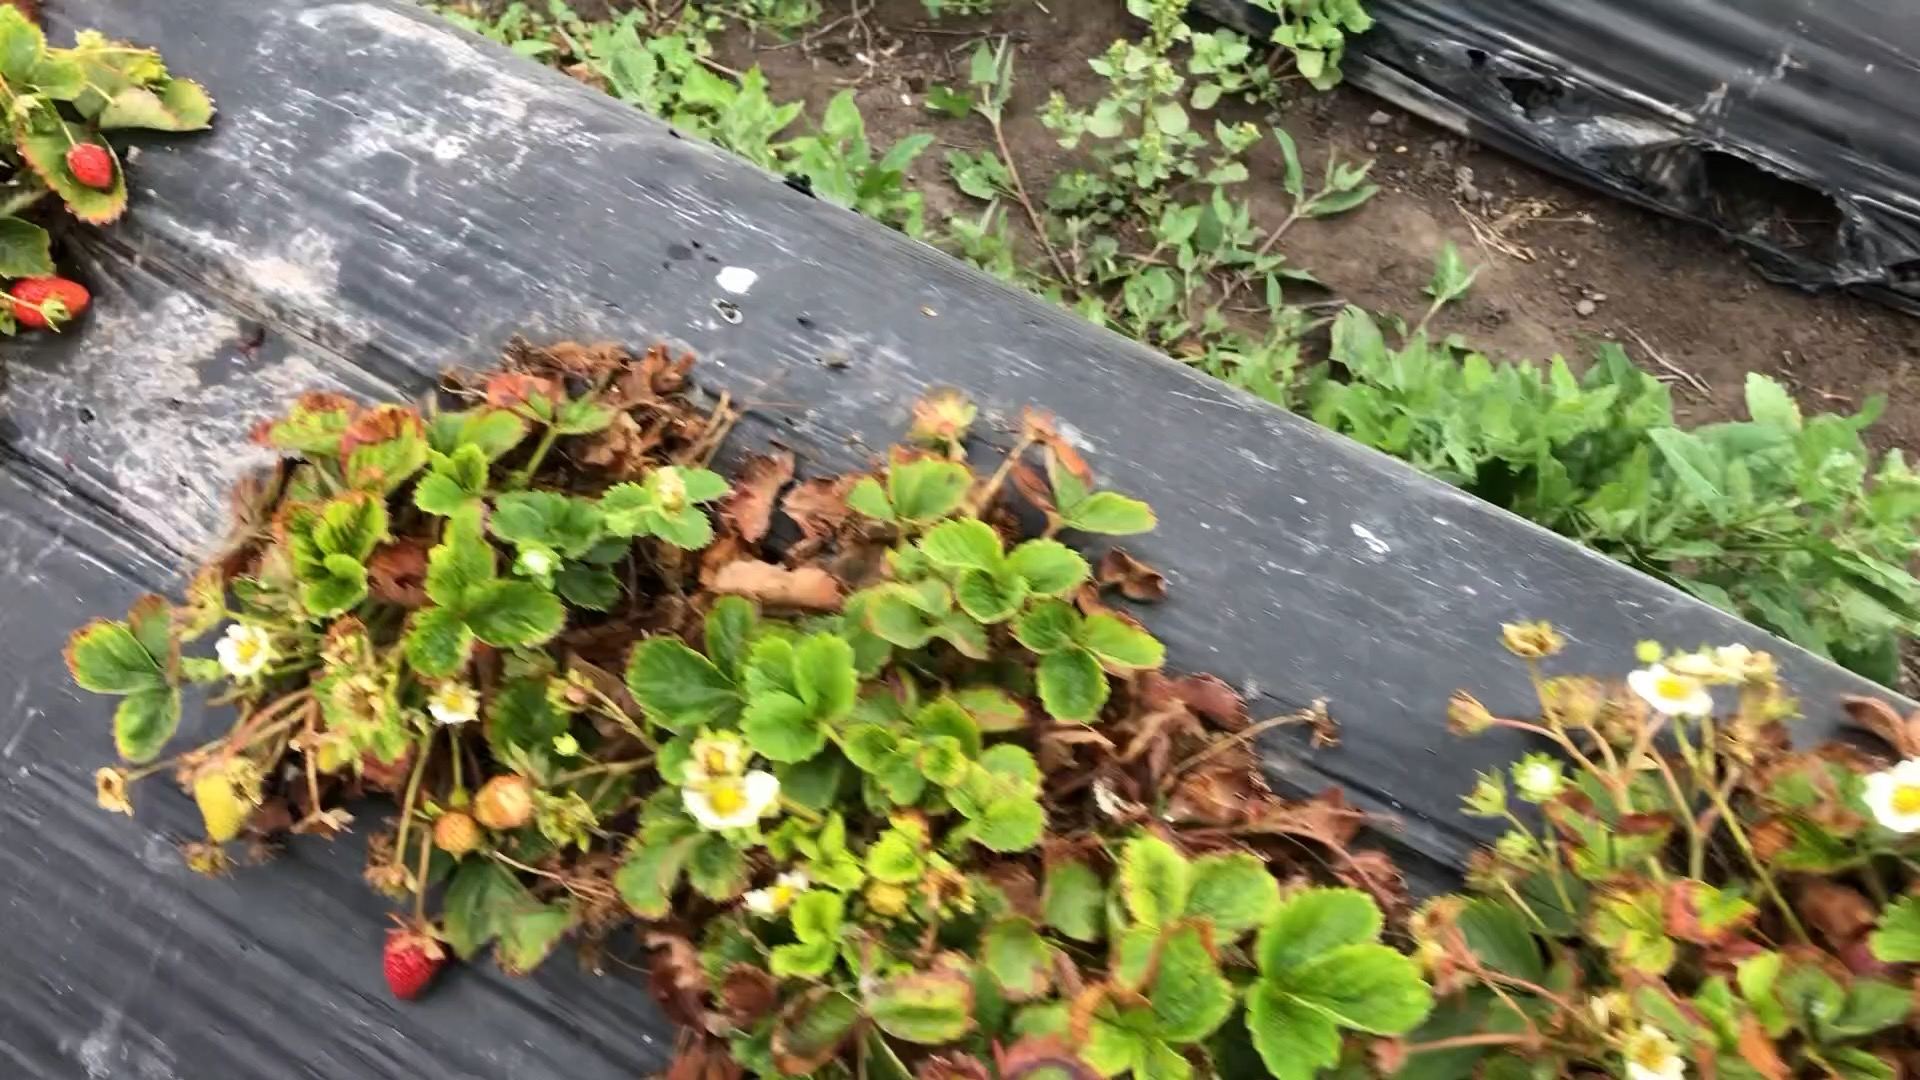ripe_strawberry: (4, 274, 95, 330), (381, 924, 443, 1000), (62, 140, 117, 194)
unripe_strawberry: (193, 756, 264, 847), (473, 773, 541, 829), (434, 814, 483, 855)
